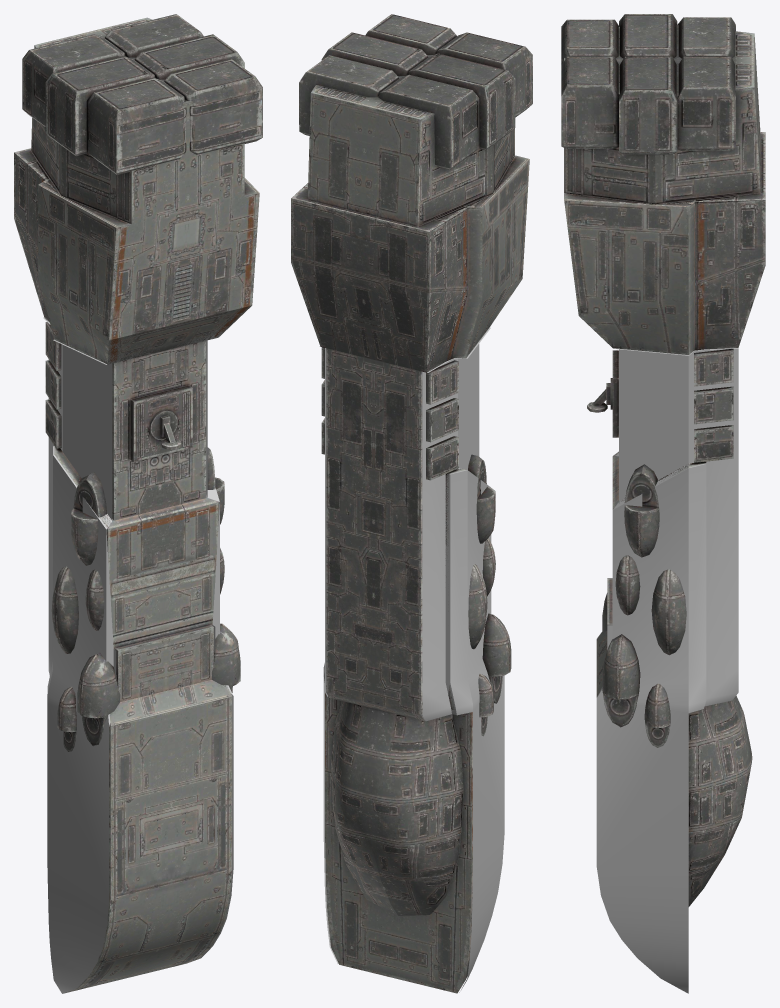
File: Dreadgnought-class_heavy_cruiser_CSA.obj
3 views of the same model, side by side, from view 1: azimuth 30°, elevation 25°; view 2: azimuth 150°, elevation 25°; view 3: azimuth 270°, elevation 25° (orthographic). The views are drawn at different scales.
Parts seen in each view (by area): view 1: objdefault, lights, lights1; view 2: objdefault, lights; view 3: objdefault, lights.
Boxes of the visible parts, x1=… form: objdefault: x1=14, y1=14, x2=262, y2=993; lights: x1=43, y1=317, x2=233, y2=993; lights1: x1=108, y1=326, x2=229, y2=364; objdefault: x1=291, y1=14, x2=532, y2=993; lights: x1=319, y1=327, x2=504, y2=992; objdefault: x1=561, y1=14, x2=765, y2=906; lights: x1=596, y1=348, x2=738, y2=993.
Size of the model in its own units: 48.73 by 251 by 51.05.
